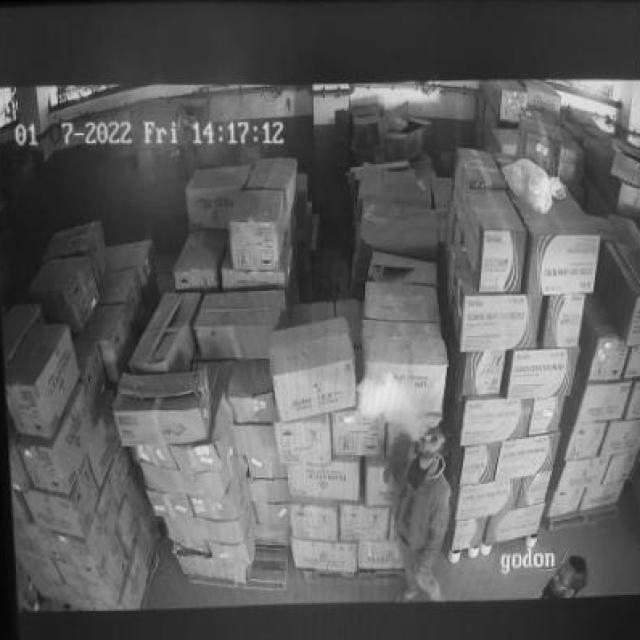fire: (354, 366, 429, 434)
